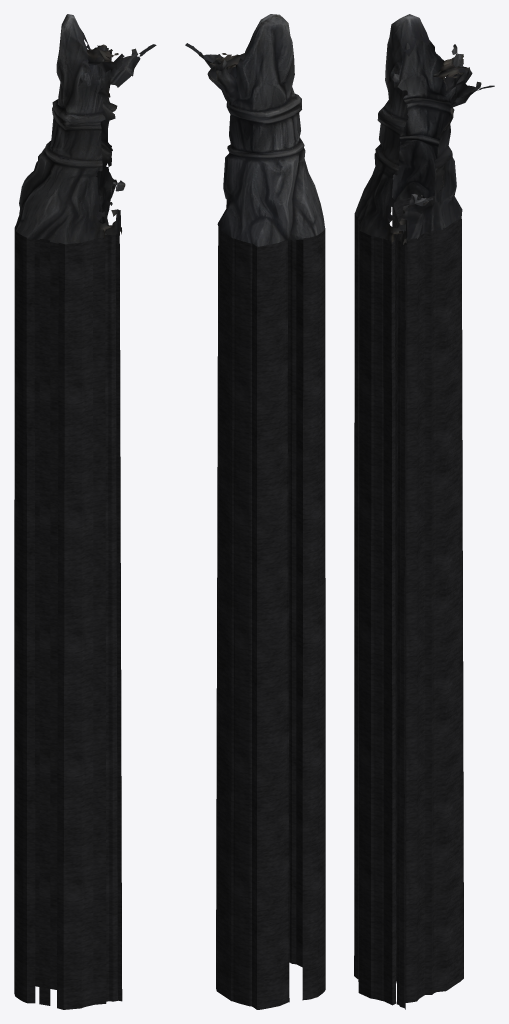
The model's file is horaro_rock_pillar_5_lod0.glb.
The picture shows the model from 3 angles, left to right: view 1: azimuth 30°, elevation 25°; view 2: azimuth 150°, elevation 25°; view 3: azimuth 330°, elevation 25°; orthographic projection.
Visible parts, largest first — view 1: horaro_rock_pillar_5_L0_foundation, horaro_rock_pillar_5_lod0; view 2: horaro_rock_pillar_5_L0_foundation, horaro_rock_pillar_5_lod0; view 3: horaro_rock_pillar_5_L0_foundation, horaro_rock_pillar_5_lod0.
Part boxes in pixels (bbox=[...]): horaro_rock_pillar_5_L0_foundation: bbox=[14, 209, 122, 1009]; horaro_rock_pillar_5_lod0: bbox=[15, 14, 156, 244]; horaro_rock_pillar_5_L0_foundation: bbox=[216, 227, 325, 1009]; horaro_rock_pillar_5_lod0: bbox=[185, 14, 324, 246]; horaro_rock_pillar_5_L0_foundation: bbox=[354, 196, 463, 1009]; horaro_rock_pillar_5_lod0: bbox=[354, 14, 494, 246].
Size of the model in its own units: 2.3 by 15.65 by 1.79.
Materials: 2 (2 with a texture image).
